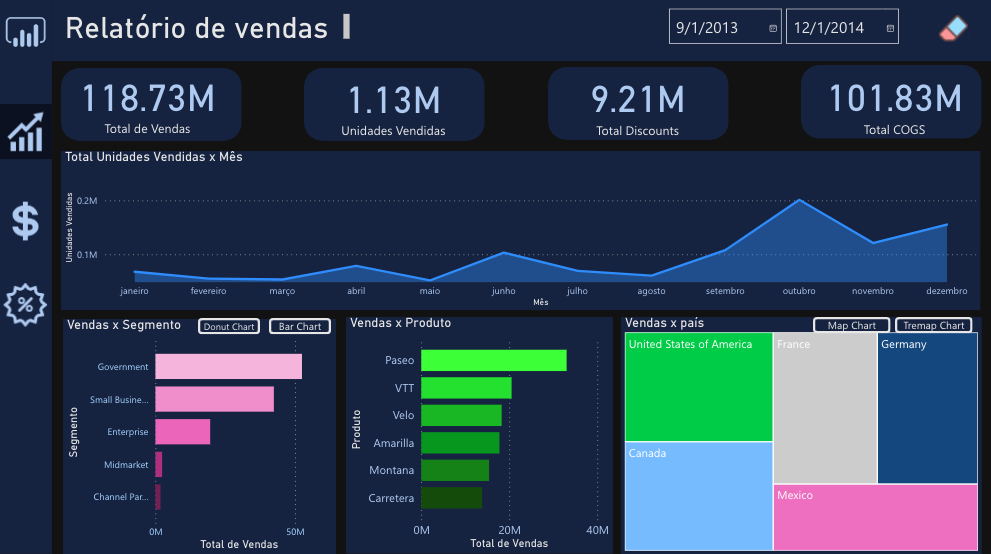

The dashboard page shown, as its layout file describes it:
{"tool":"powerbi","page":{"name":"Relatório de Descontos","canvas":[1280,720],"ordinal":2},"visuals":[{"type":"shape","box":[68,0,1212,84],"z":0},{"type":"treemap","title":"Descontos x País","fields":{"Group":["financials.Country"],"Values":["Sum(financials.Discounts)"]},"box":[827.1,90.9,439.3,362],"z":1000},{"type":"shape","box":[0,0,68,718.7],"z":3000},{"type":"donutChart","title":"Descontos x Segmento","fields":{"Category":["financials.Segment"],"Y":["Sum(financials.Discounts)"]},"box":[457.5,90.9,359,362],"z":5000},{"type":"columnChart","title":"Soma Descontos x Mês","fields":{"Category":["financials.Date.Variation.Hierarquia de datas.Mês"],"Y":["Sum(financials.Discounts)"]},"box":[80.3,90.9,366.6,362],"z":6000},{"type":"clusteredBarChart","title":"Descontos x Produto","fields":{"Category":["financials.Product"],"Y":["Sum(financials.Discounts)"]},"box":[80.3,465,1186.1,254.5],"z":7000},{"type":"textbox","box":[79.9,18.8,421.4,47],"z":8000},{"type":"group","title":"Vendas por segmento","box":[775.2,107.2,352,302.6],"z":9000},{"type":"actionButton","box":[1205.8,18.2,50,47],"z":10000},{"type":"image","box":[0,0,68.2,90.9],"z":11000},{"type":"actionButton","box":[0,139.4,68.2,71.2],"z":12000},{"type":"actionButton","box":[4.5,259,57.6,62.1],"z":13000},{"type":"group","title":"Vendas por segmento","box":[82.9,549.4,335.4,169.6],"z":14000},{"type":"ChicletSlicer1448559807354","fields":{"Category":["financials.Date.Variation.Hierarquia de datas.Ano"]},"box":[739.2,18.2,527.1,51.5],"z":15000},{"type":"actionButton","box":[0,366.6,68.2,63.6],"z":16000},{"type":"actionButton","box":[0,662,68.2,57],"z":17000}]}

Visuals, with their boxes on the page's 1280x720 design canvas (x1, y1, x2, y2). These are canvas units, not pixel positions in the 991x554 screenshot, which may show the page scaled, cropped or inside an application window:
shape: [x1=68, y1=0, x2=1280, y2=84]
"Descontos x País" treemap: [x1=827, y1=91, x2=1266, y2=453]
shape: [x1=0, y1=0, x2=68, y2=719]
"Descontos x Segmento" donutChart: [x1=458, y1=91, x2=816, y2=453]
"Soma Descontos x Mês" columnChart: [x1=80, y1=91, x2=447, y2=453]
"Descontos x Produto" clusteredBarChart: [x1=80, y1=465, x2=1266, y2=720]
textbox: [x1=80, y1=19, x2=501, y2=66]
"Vendas por segmento" group: [x1=775, y1=107, x2=1127, y2=410]
actionButton: [x1=1206, y1=18, x2=1256, y2=65]
image: [x1=0, y1=0, x2=68, y2=91]
actionButton: [x1=0, y1=139, x2=68, y2=211]
actionButton: [x1=4, y1=259, x2=62, y2=321]
"Vendas por segmento" group: [x1=83, y1=549, x2=418, y2=719]
ChicletSlicer1448559807354 - financials.Date.Variation.Hierarquia de datas.Ano: [x1=739, y1=18, x2=1266, y2=70]
actionButton: [x1=0, y1=367, x2=68, y2=430]
actionButton: [x1=0, y1=662, x2=68, y2=719]
